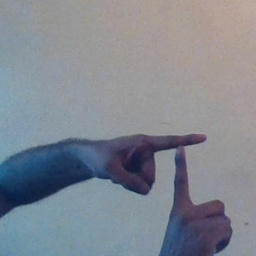T: (119, 120, 229, 234)
